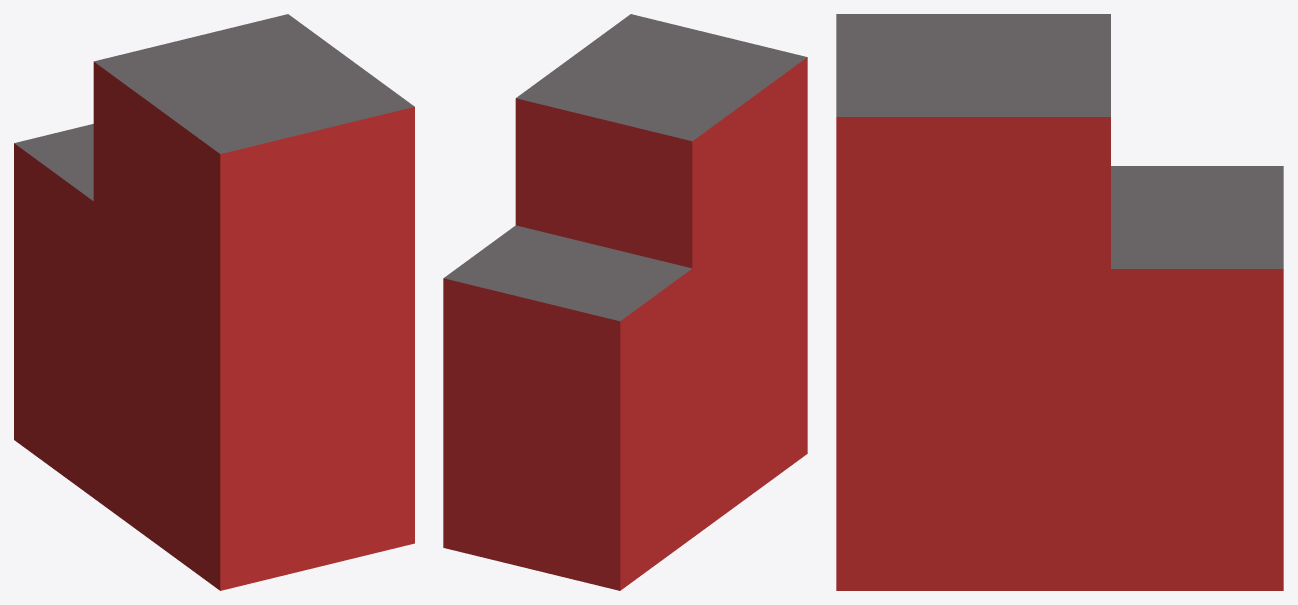
File: Building3.fbx
3 views of the same model, side by side, from view 1: azimuth 30°, elevation 25°; view 2: azimuth 150°, elevation 25°; view 3: azimuth 270°, elevation 25° (orthographic). The views are drawn at different scales.
Visible parts, largest first — view 1: Building3; view 2: Building3; view 3: Building3.
Boxes of the visible parts, left/top/right/bottom form: Building3: left=14, top=14, right=414, bottom=590; Building3: left=443, top=14, right=807, bottom=590; Building3: left=836, top=14, right=1283, bottom=590.
Size of the model in its own units: 1200 by 2575 by 2204.
